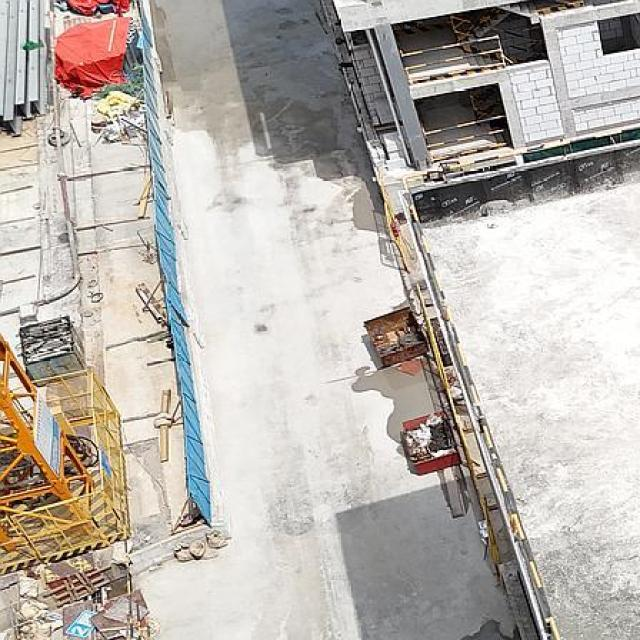Guardrail: (400, 192, 560, 639), (401, 34, 506, 84), (422, 114, 507, 162), (445, 144, 544, 172)
